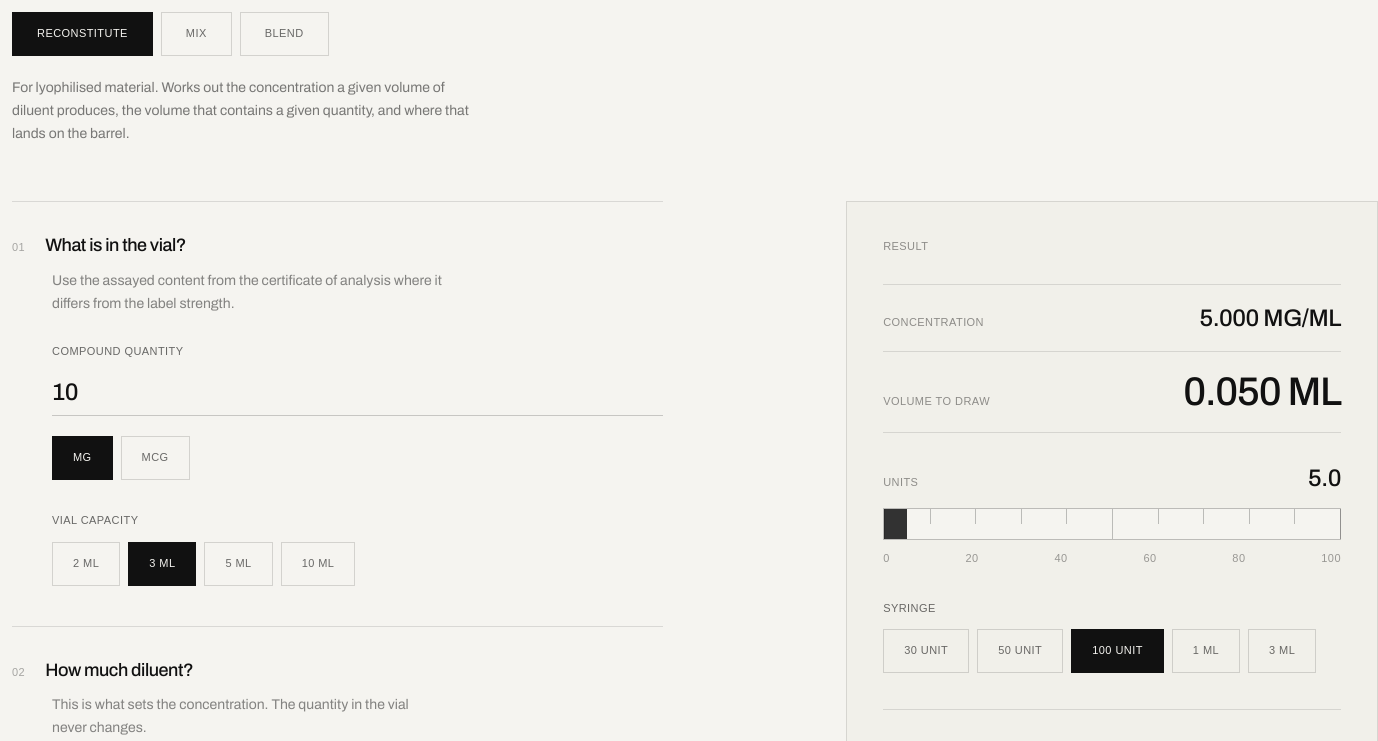
Test case: mix › starts with two rows and computes them
The width and height of the screenshot is (1378, 741).
Click the tab "Mix" at (196, 34), box [161,12,232,56]
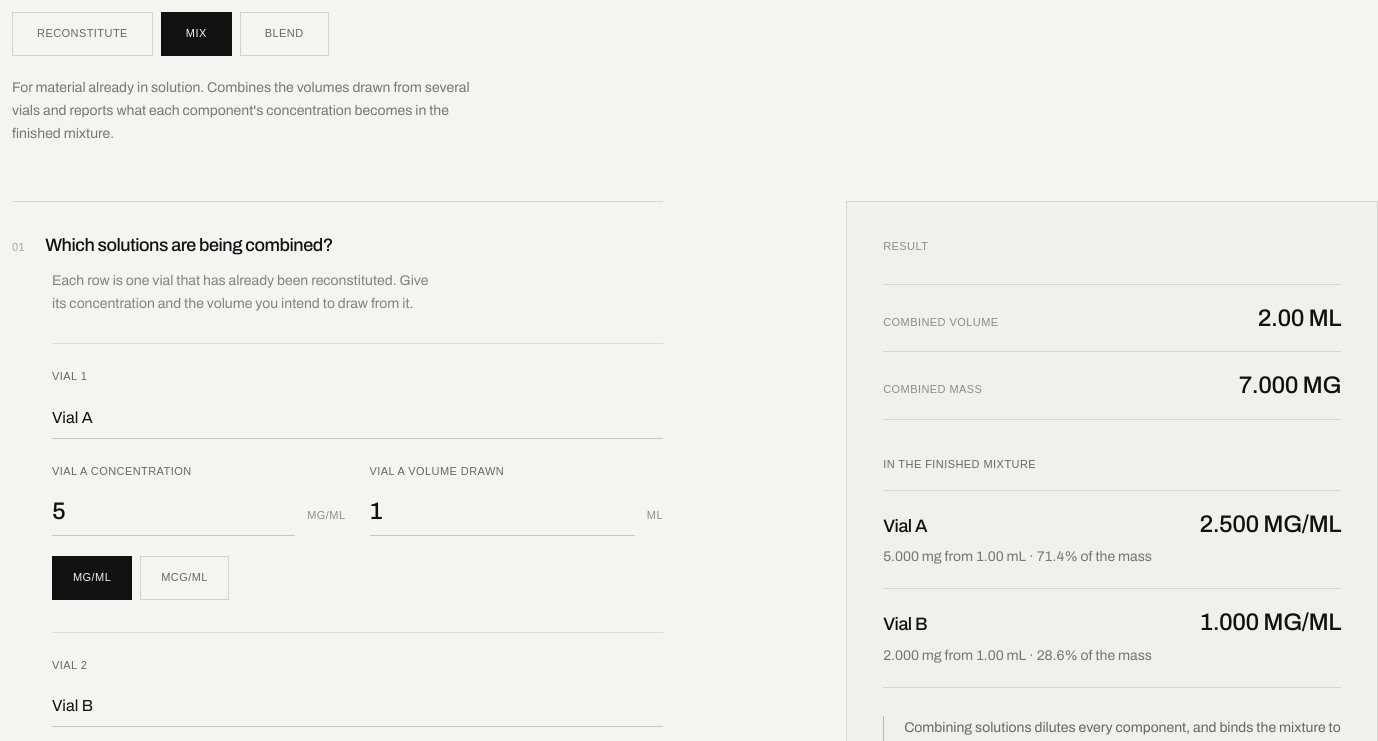
Now the text "2.00 mL" is shown, box [1258,305,1341,331]
Now the text "7.000 mg" is shown, box [1239,372,1341,399]
